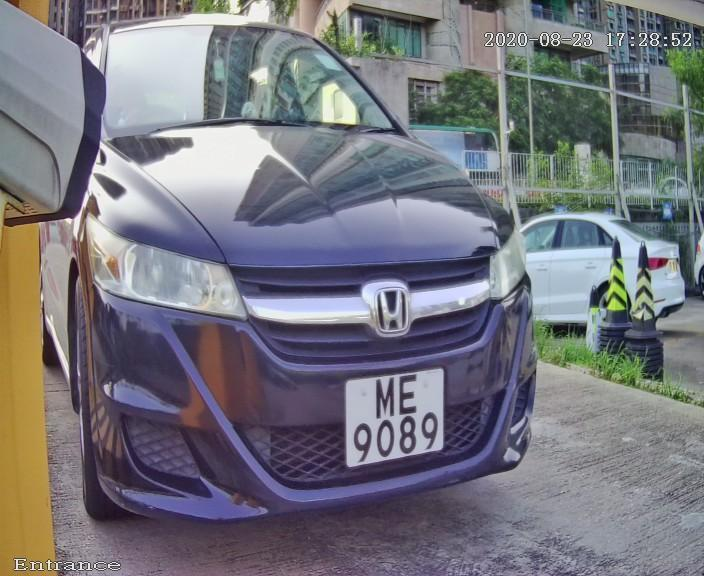Car: (26, 11, 591, 561)
License Plate: (309, 333, 491, 500)
